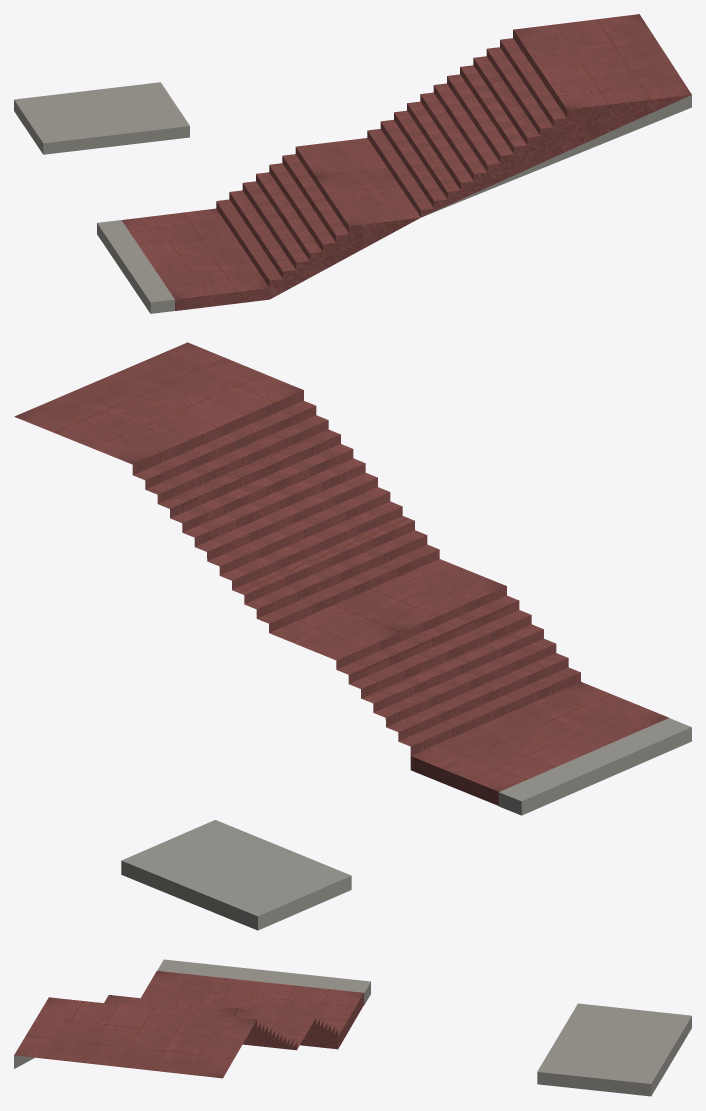
Rendered from escaleras_pasillo_1.glb.
3 views of the same model, one above another, from view 1: azimuth 30°, elevation 25°; view 2: azimuth 150°, elevation 25°; view 3: azimuth 270°, elevation 25° (orthographic). The views are drawn at different scales.
Visible parts, largest first — view 1: escalon.002; view 2: escalon.002; view 3: escalon.002.
Boxes of the visible parts, x1=… form: escalon.002: x1=14, y1=14, x2=691, y2=313; escalon.002: x1=14, y1=342, x2=691, y2=930; escalon.002: x1=14, y1=959, x2=691, y2=1096.
Size of the model in its own units: 73.25 by 20.94 by 76.42.
2 materials, 2 textured.
